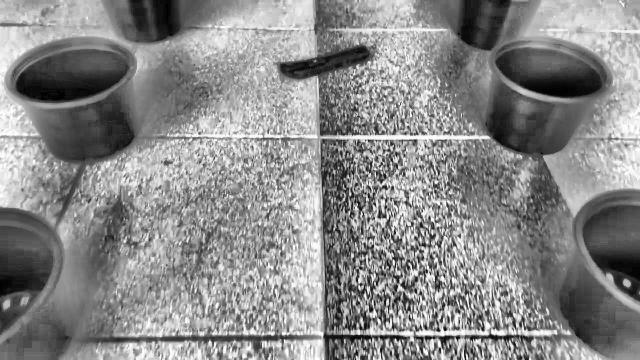pot: (3, 38, 138, 162), (484, 36, 612, 155)
